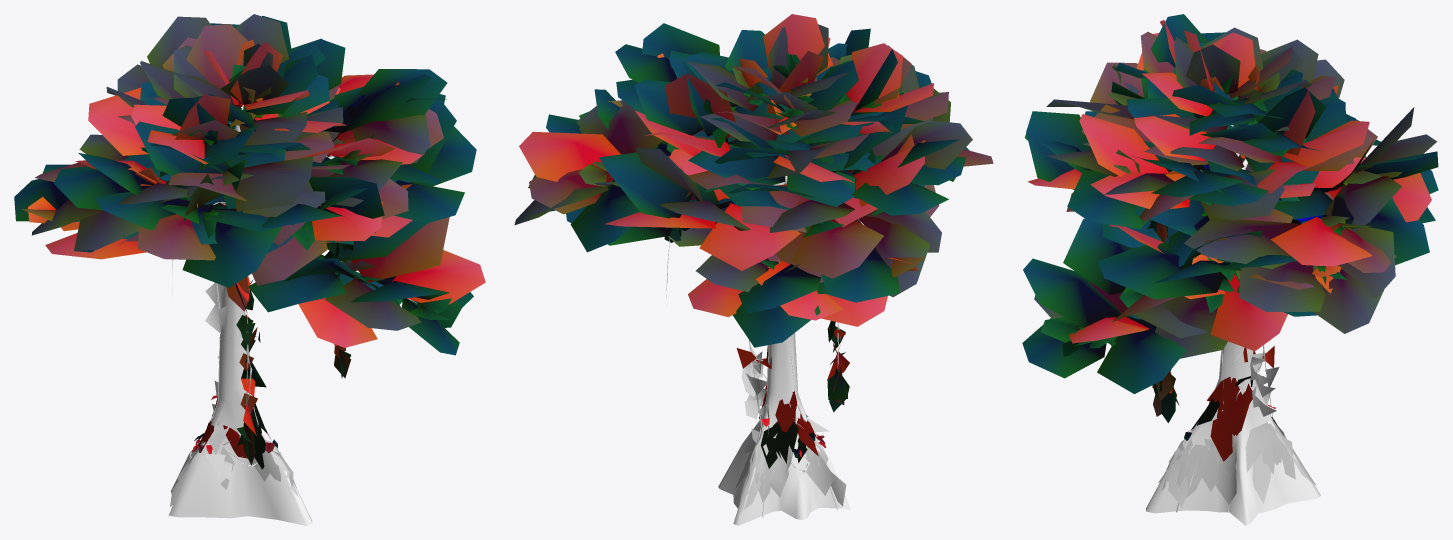
Rendered from KapokTree01_afsTREE_xlprl05_xef40_xmvcb_xlod03.fbx.
3 views of the same model, side by side, from view 1: azimuth 30°, elevation 25°; view 2: azimuth 150°, elevation 25°; view 3: azimuth 270°, elevation 25° (orthographic).
Parts seen in each view (by area): view 1: trunk_xw03, leaf01.032, leaf01.153, leaf01.104, leaf01.095, leaf01.031, leaf01.120_xt20, leaf01.137, leaf01.033, leaf01.092_xt20, leaf01.055, leaf01.036_xw15_xt20 (+57 smaller); view 2: trunk_xw03, leaf01.132, leaf01.015, leaf01.021_xt20, leaf01.069, leaf01.076, leaf01.005_xt20, leaf01.130_xt20, leaf01.008, leaf01.004, leaf01.002, leaf01.026 (+55 smaller); view 3: trunk_xw03, leaf01.113, leaf01.094, leaf01.099, leaf01.130_xt20, leaf01.234, leaf01.117, leaf01.243, leaf01.132, leaf01.108, leaf01.037, leaf01.236 (+72 smaller).
Boxes of the visible parts, x1,y1,x2,y2 form: trunk_xw03: (168, 105, 312, 525); leaf01.032: (182, 208, 281, 287); leaf01.153: (233, 156, 312, 211); leaf01.104: (351, 217, 449, 282); leaf01.095: (392, 250, 485, 304); leaf01.031: (138, 214, 215, 260); leaf01.120_xt20: (348, 69, 447, 121); leaf01.137: (186, 24, 248, 106); leaf01.033: (248, 272, 346, 312); leaf01.092_xt20: (325, 278, 421, 330); leaf01.055: (88, 87, 148, 155); leaf01.036_xw15_xt20: (298, 298, 377, 347); trunk_xw03: (718, 176, 850, 525); leaf01.132: (519, 131, 620, 181); leaf01.015: (791, 219, 883, 278); leaf01.021_xt20: (699, 203, 800, 270); leaf01.069: (599, 152, 693, 218); leaf01.076: (570, 179, 639, 252); leaf01.005_xt20: (821, 247, 899, 302); leaf01.130_xt20: (576, 100, 662, 154); leaf01.008: (855, 216, 930, 297); leaf01.004: (738, 264, 821, 313); leaf01.002: (732, 304, 820, 347); leaf01.026: (851, 182, 948, 215); trunk_xw03: (1146, 125, 1320, 525); leaf01.113: (1097, 241, 1224, 299); leaf01.094: (1097, 317, 1186, 393); leaf01.099: (1023, 258, 1121, 327); leaf01.130_xt20: (1184, 217, 1299, 268); leaf01.234: (1239, 255, 1325, 311); leaf01.117: (1079, 114, 1168, 176); leaf01.243: (1210, 274, 1287, 351); leaf01.132: (1271, 217, 1372, 266); leaf01.108: (1026, 111, 1091, 189); leaf01.037: (1063, 218, 1137, 294); leaf01.236: (1313, 266, 1383, 333).
Size of what is drawn, in the model's own units: 51.01 by 45.84 by 56.76.
